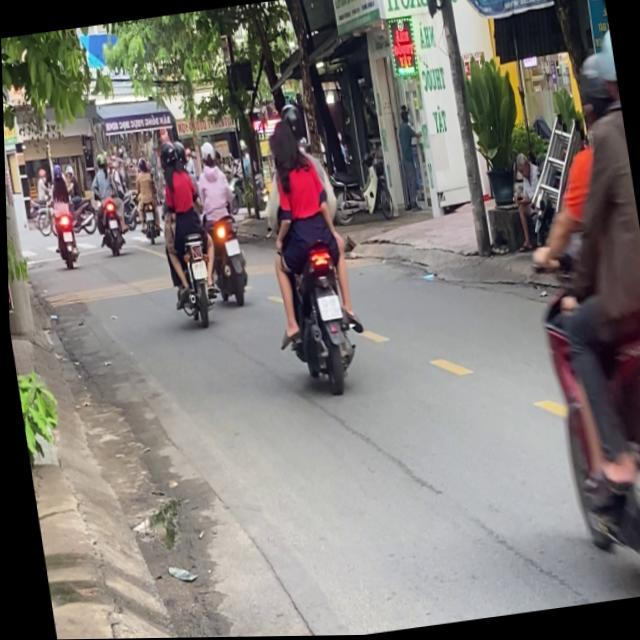helmet: (569, 40, 616, 133), (276, 101, 301, 134), (168, 137, 187, 170), (158, 138, 177, 171), (197, 138, 215, 167)
licenseplate: (489, 18, 640, 607), (243, 93, 369, 399), (146, 134, 218, 329), (186, 135, 251, 308)
motorcyclist: (264, 117, 302, 175)
nohelmet: (314, 293, 340, 320), (189, 259, 205, 279), (222, 237, 238, 255)
